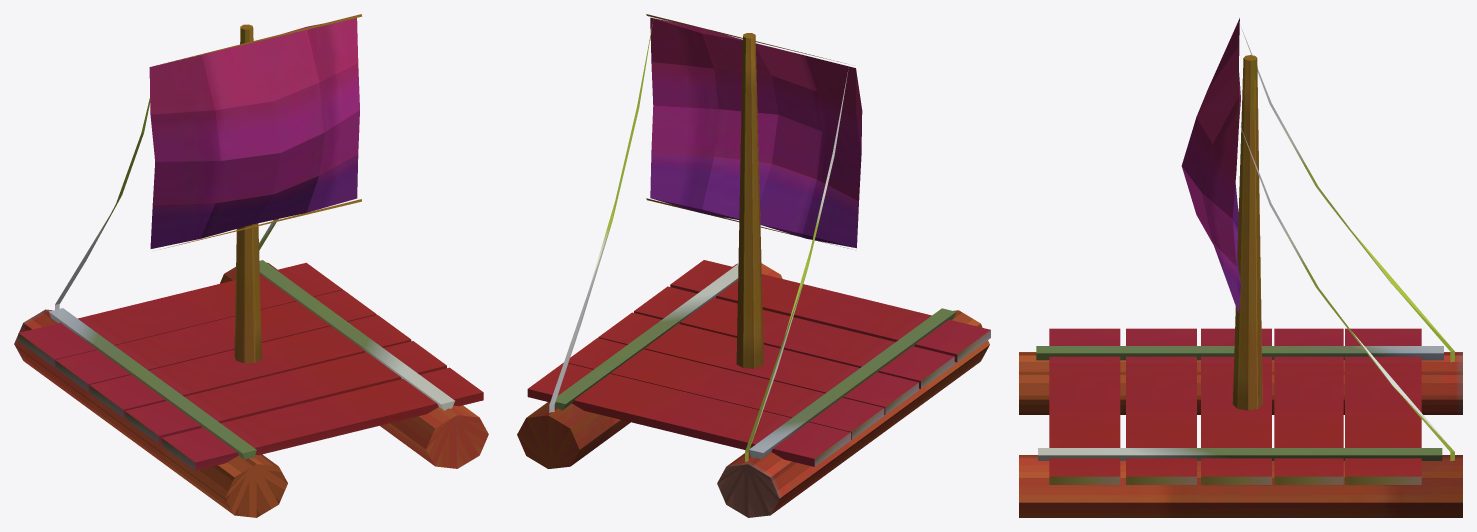
Rendered from raft.obj.
The picture shows the model from 3 angles, left to right: view 1: azimuth 30°, elevation 25°; view 2: azimuth 150°, elevation 25°; view 3: azimuth 270°, elevation 25°; orthographic projection. The views are drawn at different scales.
Visible parts, largest first — view 1: Raft_Cylinder, Raft.002_Cylinder.002; view 2: Raft_Cylinder, Raft.002_Cylinder.002; view 3: Raft_Cylinder, Raft.002_Cylinder.002.
Part boxes in pixels (x1,y1,x2,y2): Raft_Cylinder: (14, 14, 488, 517); Raft.002_Cylinder.002: (55, 18, 359, 309); Raft_Cylinder: (517, 14, 990, 517); Raft.002_Cylinder.002: (549, 17, 862, 461); Raft_Cylinder: (1019, 37, 1462, 517); Raft.002_Cylinder.002: (1181, 18, 1454, 461).
Size of the model in its own units: 3.82 by 4.88 by 4.85.
